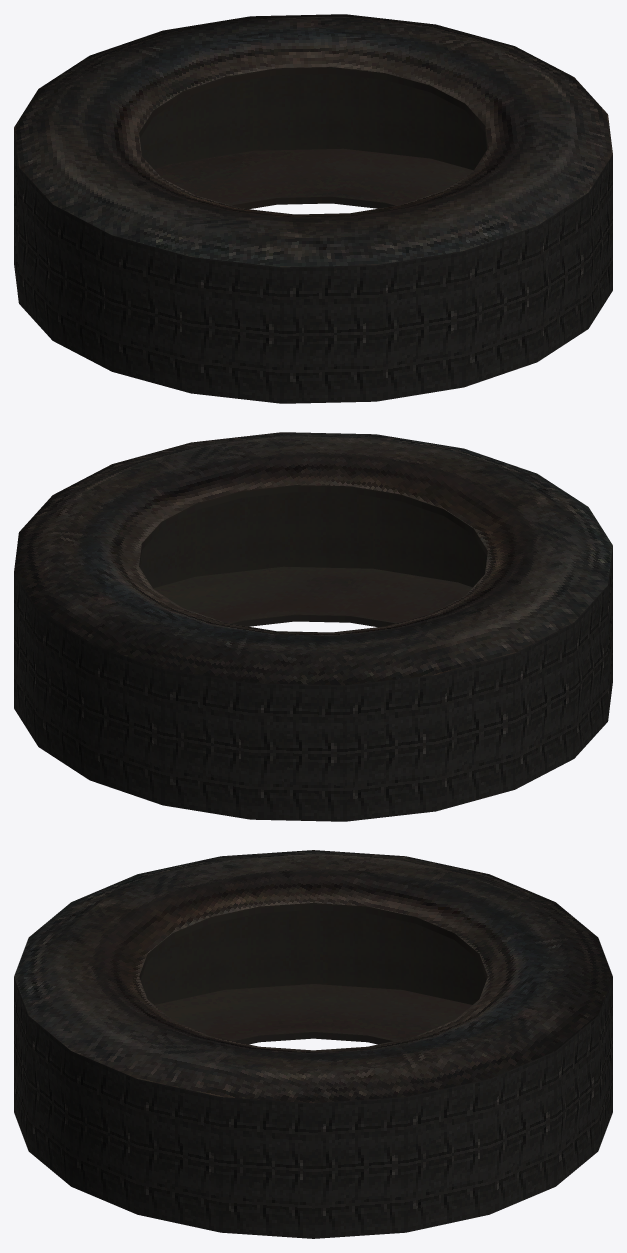
The model's file is tire_2.glb.
The picture shows the model from 3 angles, top to bottom: view 1: azimuth 30°, elevation 25°; view 2: azimuth 150°, elevation 25°; view 3: azimuth 270°, elevation 25°; orthographic projection.
Visible parts, largest first — view 1: tire_2; view 2: tire_2; view 3: tire_2.
Part boxes in pixels (x1,y1,x2,y2): tire_2: [14, 14, 612, 403]; tire_2: [14, 432, 612, 821]; tire_2: [14, 850, 612, 1238].
Size of the model in its own units: 0.64 by 0.1893 by 0.64.
1 material, 1 textured.
